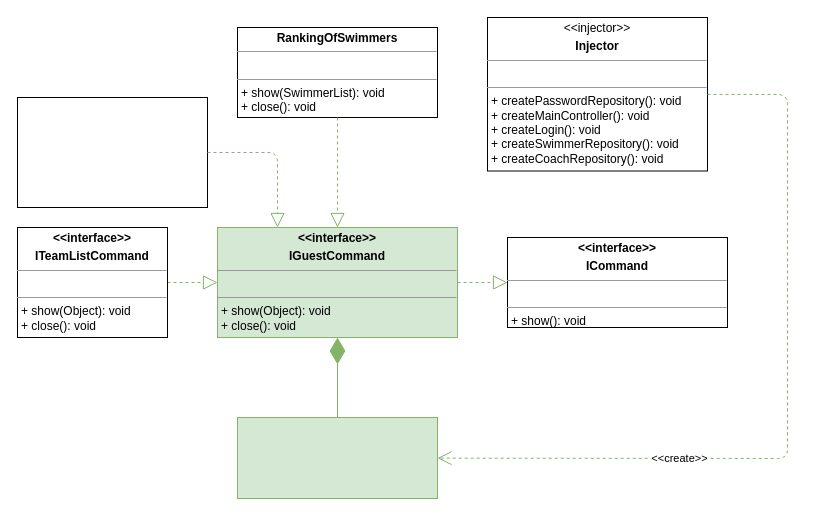
Some shapes in this 819 by 516 pixel diagram are drawn without their labels. Here are the shapes that lost their labels. From the top down, the box of each, then its label:
(16, 96, 208, 208): <<interface>> ISwimmingStyleListCommand + show(Object): void + close(): void
(236, 416, 438, 498): GuestWindow + show(): void
